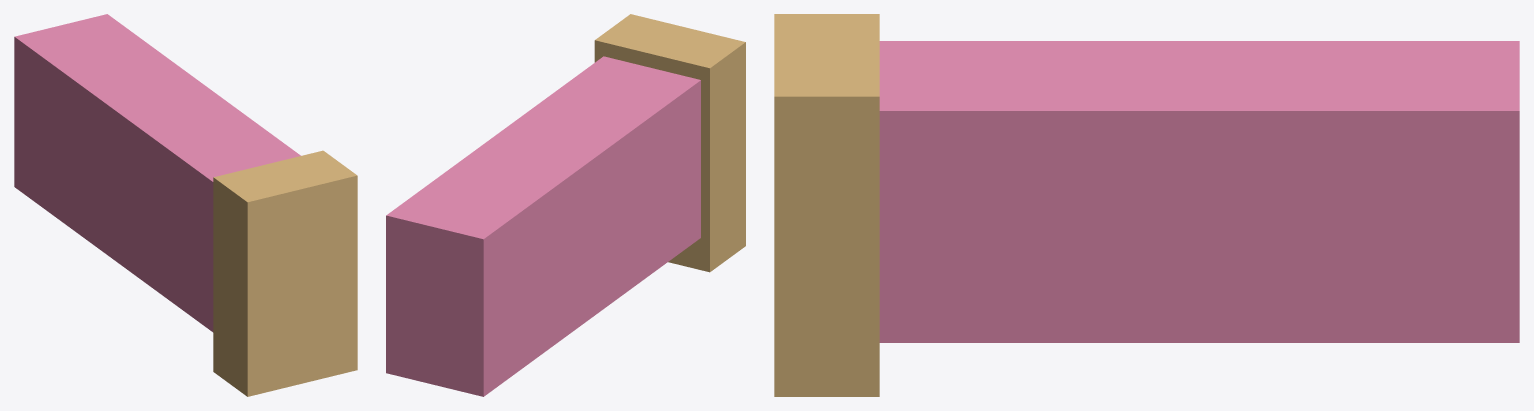
File: PaddedStock.obj
3 views of the same model, side by side, from view 1: azimuth 30°, elevation 25°; view 2: azimuth 150°, elevation 25°; view 3: azimuth 270°, elevation 25° (orthographic). The views are drawn at different scales.
Parts seen in each view (by area): view 1: PaddedStock_Body, PaddedStock_Detail; view 2: PaddedStock_Body, PaddedStock_Detail; view 3: PaddedStock_Body, PaddedStock_Detail.
Part boxes in pixels (box(x1,y1,x2,y2)): PaddedStock_Body: box(14, 14, 300, 332); PaddedStock_Detail: box(213, 150, 357, 396); PaddedStock_Body: box(386, 56, 700, 396); PaddedStock_Detail: box(594, 14, 745, 272); PaddedStock_Body: box(879, 41, 1519, 342); PaddedStock_Detail: box(774, 14, 879, 396).
Bounding box in the file's own units: 0.13 × 0.22 × 0.495.
